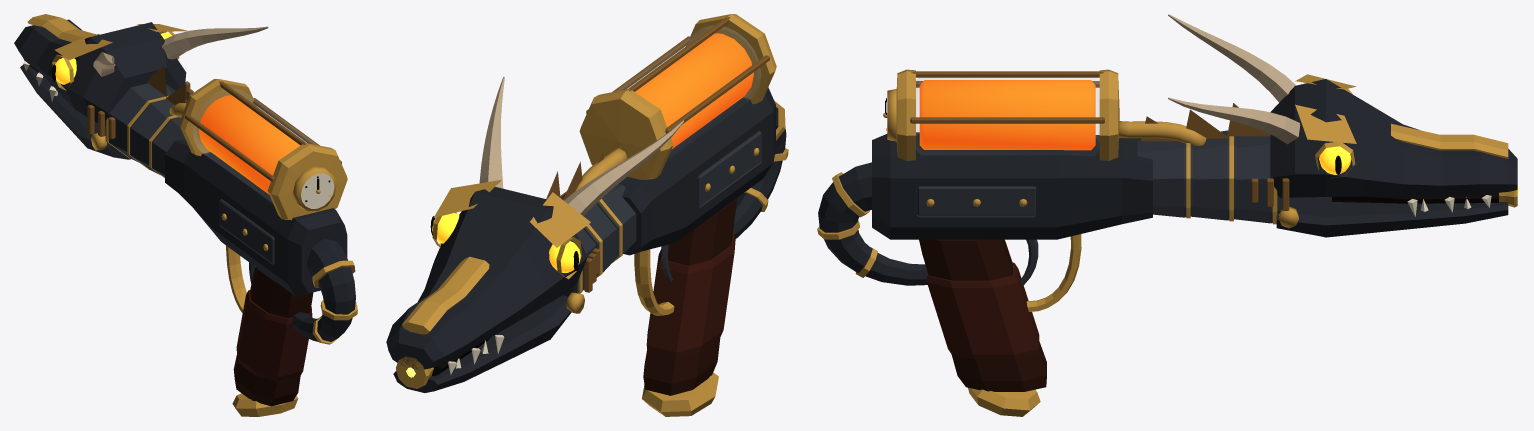
File: wyrmspout.glb
3 renders of one model, left to right at view 1: azimuth 30°, elevation 25°; view 2: azimuth 150°, elevation 25°; view 3: azimuth 270°, elevation 25°, orthographic. The views are drawn at different scales.
Parts seen in each view (by area): view 1: Wyrmspout_WyrmSteel, Wyrmspout_Brass, Head_Skull, Wyrmspout_PlateSteel, FuelLiquid, Grip_Leather, Grip_Walnut, Wyrmspout_DarkBrass, Head_Brass, Head_Horn, Jaw_Scales, Gauge_Face (+2 smaller); view 2: Head_Skull, Wyrmspout_Brass, Wyrmspout_WyrmSteel, Grip_Leather, FuelLiquid, Head_Brass, Grip_Walnut, Wyrmspout_PlateSteel, Jaw_Scales, Head_Horn, Wyrmspout_DarkBrass, Tank_Glass (+2 smaller); view 3: Wyrmspout_WyrmSteel, Head_Skull, Wyrmspout_PlateSteel, FuelLiquid, Wyrmspout_Brass, Grip_Leather, Grip_Walnut, Jaw_Scales, Head_Brass, Head_Horn, Wyrmspout_DarkBrass, Head_Soot (+2 smaller).
Boxes of the visible parts, left/top/right/bottom form: Wyrmspout_WyrmSteel: left=165, top=139, right=355, bottom=341; Wyrmspout_Brass: left=105, top=79, right=357, bottom=416; Head_Skull: left=14, top=19, right=186, bottom=126; Wyrmspout_PlateSteel: left=108, top=83, right=274, bottom=264; FuelLiquid: left=199, top=95, right=300, bottom=194; Grip_Leather: left=236, top=290, right=312, bottom=381; Grip_Walnut: left=233, top=267, right=313, bottom=406; Wyrmspout_DarkBrass: left=147, top=65, right=341, bottom=181; Head_Brass: left=23, top=14, right=187, bottom=90; Head_Horn: left=93, top=26, right=268, bottom=76; Jaw_Scales: left=20, top=64, right=130, bottom=159; Gauge_Face: left=301, top=173, right=334, bottom=208; Head_Skull: left=386, top=187, right=587, bottom=369; Wyrmspout_Brass: left=560, top=14, right=788, bottom=416; Wyrmspout_WyrmSteel: left=619, top=87, right=786, bottom=255; Grip_Leather: left=646, top=232, right=735, bottom=358; FuelLiquid: left=635, top=33, right=753, bottom=148; Head_Brass: left=396, top=180, right=590, bottom=388; Grip_Walnut: left=643, top=198, right=736, bottom=395; Wyrmspout_PlateSteel: left=561, top=130, right=761, bottom=296; Jaw_Scales: left=393, top=295, right=571, bottom=392; Head_Horn: left=479, top=76, right=684, bottom=216; Wyrmspout_DarkBrass: left=546, top=16, right=769, bottom=200; Tank_Glass: left=617, top=25, right=760, bottom=100; Wyrmspout_WyrmSteel: left=818, top=132, right=1152, bottom=285; Head_Skull: left=1270, top=79, right=1517, bottom=198; Wyrmspout_PlateSteel: left=916, top=130, right=1279, bottom=223; FuelLiquid: left=919, top=80, right=1095, bottom=150; Wyrmspout_Brass: left=817, top=69, right=1277, bottom=416; Grip_Leather: left=927, top=262, right=1039, bottom=359; Grip_Walnut: left=919, top=239, right=1046, bottom=391; Jaw_Scales: left=1276, top=197, right=1508, bottom=237; Head_Brass: left=1295, top=74, right=1517, bottom=207; Head_Horn: left=1168, top=14, right=1300, bottom=144; Wyrmspout_DarkBrass: left=910, top=71, right=1270, bottom=141; Head_Soot: left=1332, top=192, right=1498, bottom=203.
Size of the model in its own units: 0.1291 by 0.2528 by 0.4549.
